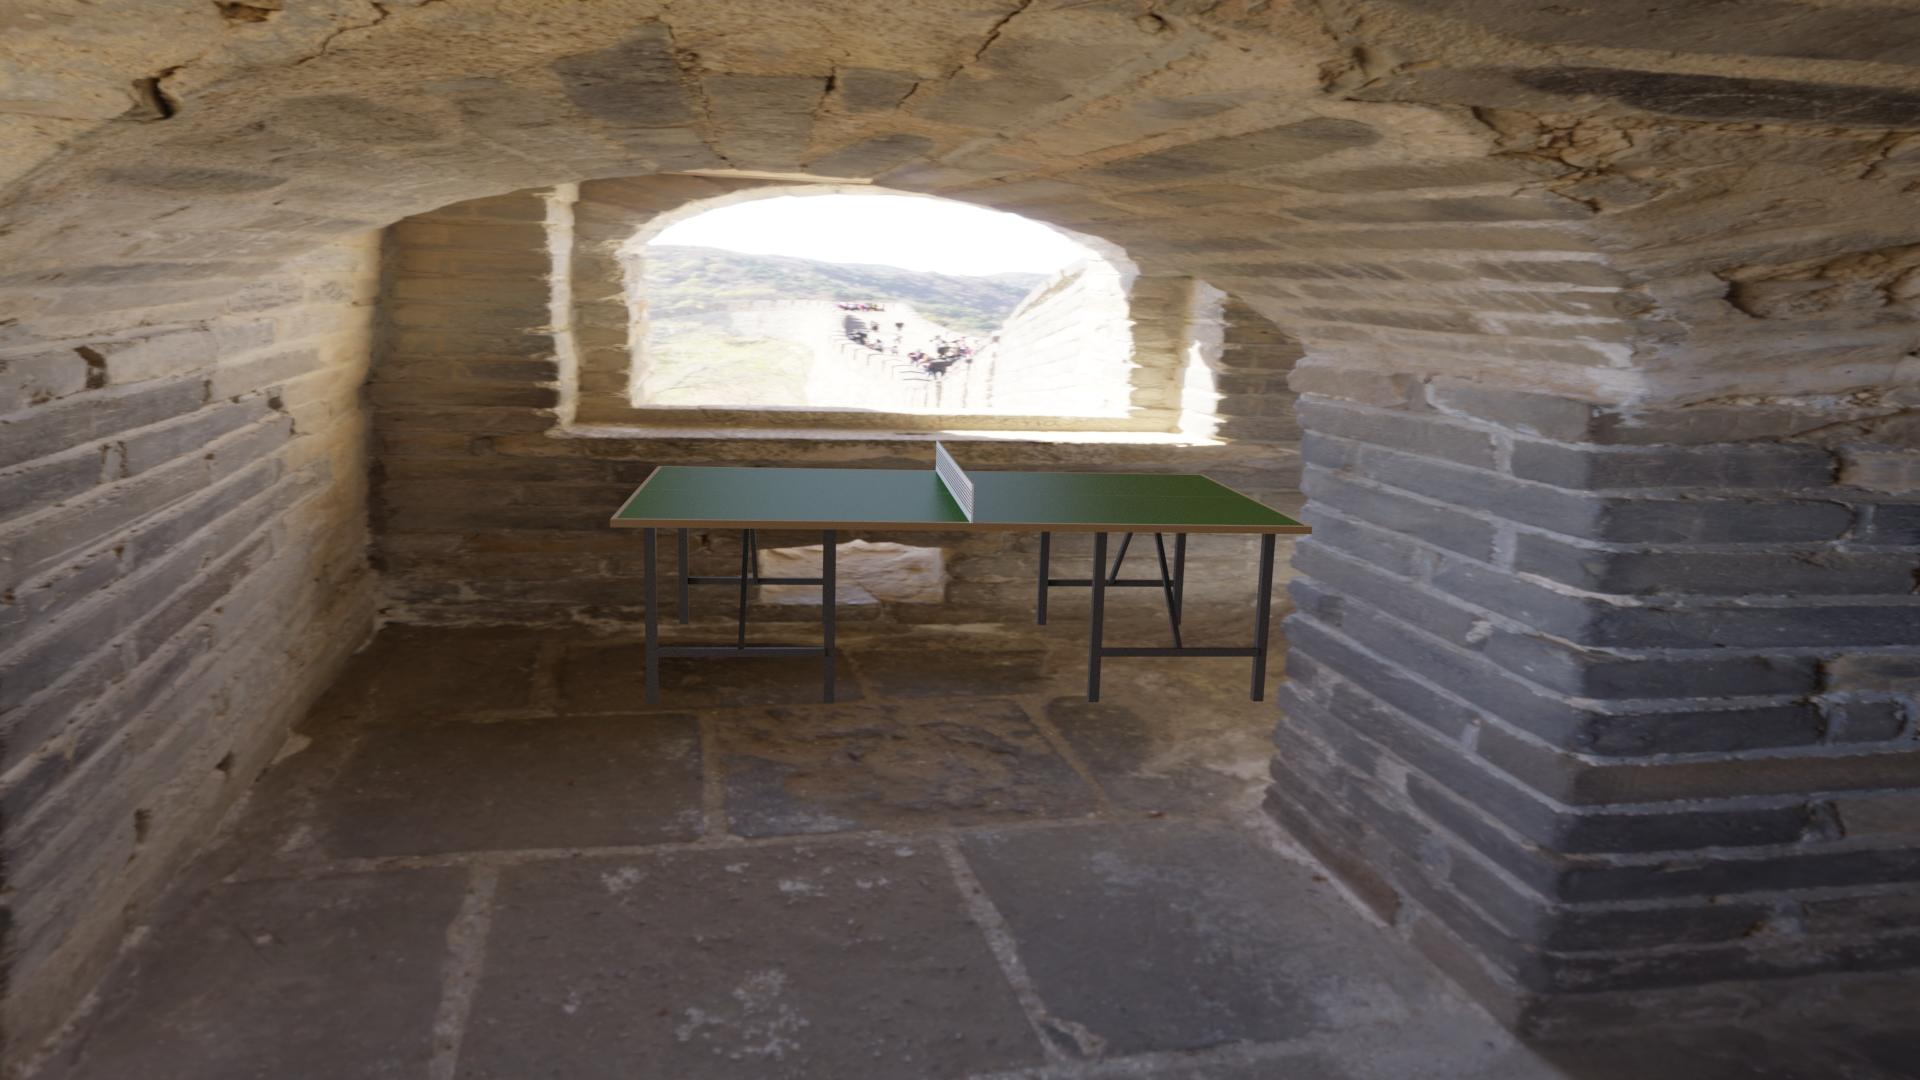table: (616, 467, 1306, 526)
